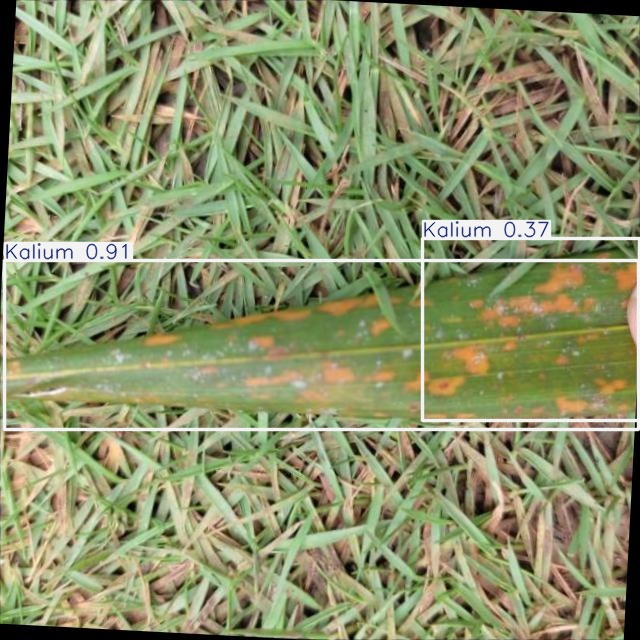Kalium: (4, 260, 638, 430), (423, 238, 640, 420)
